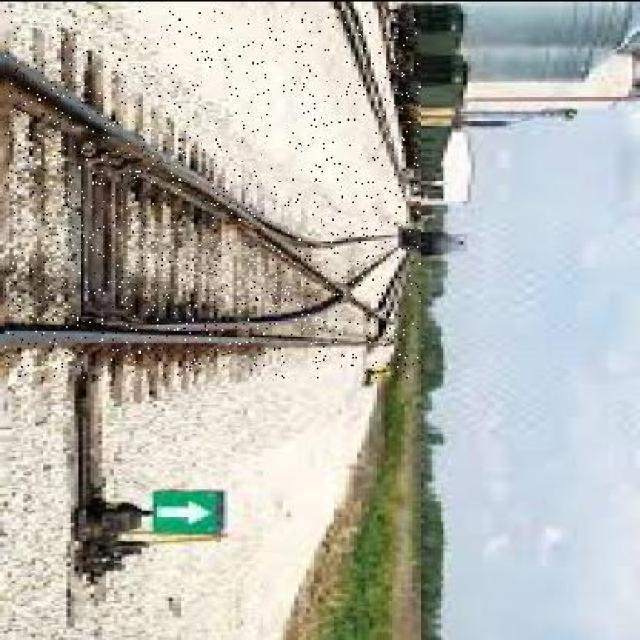rail: (6, 10, 420, 378)
